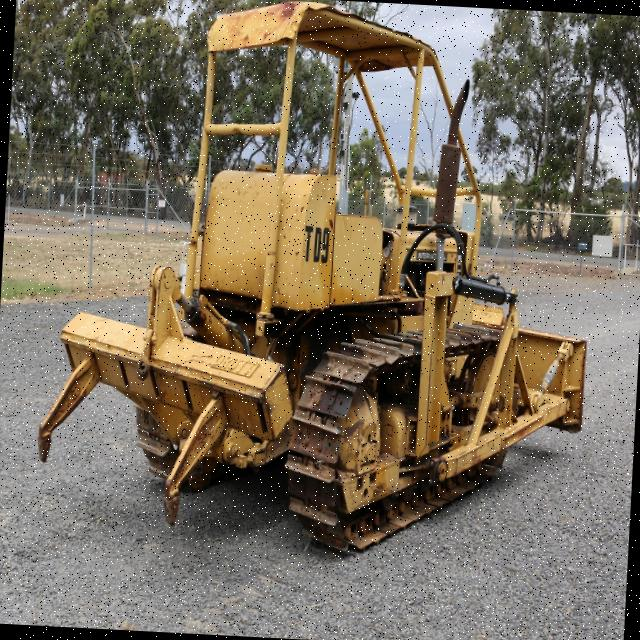Bulldozer: (27, 0, 624, 562)
